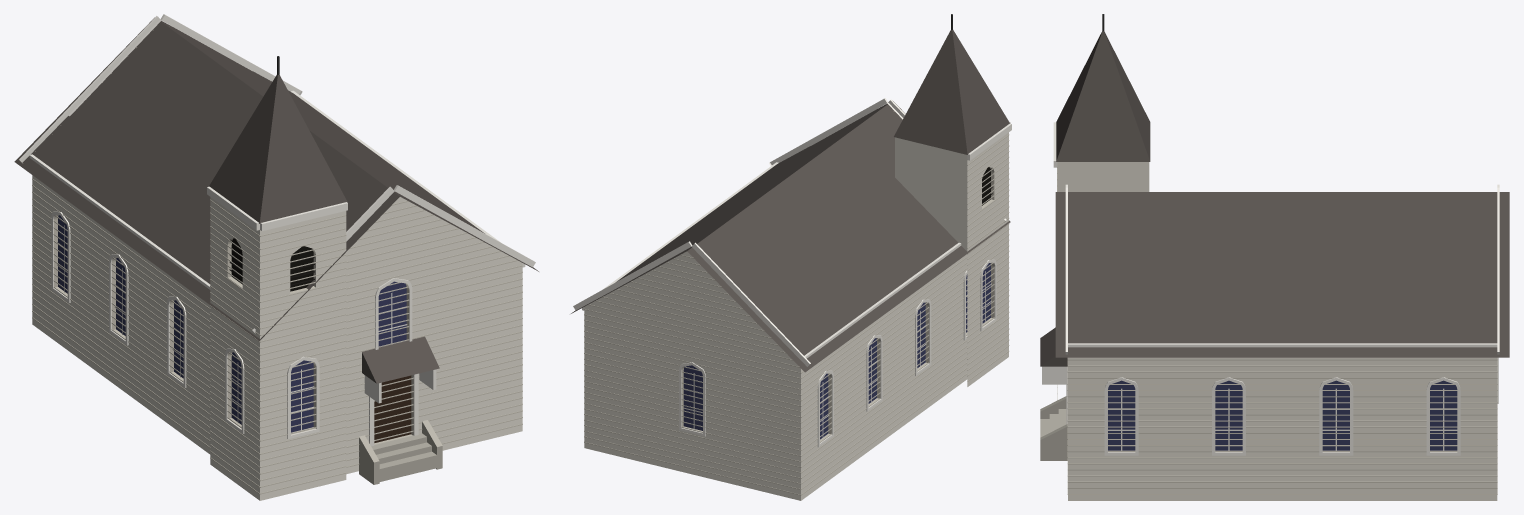
The model's file is ch-wright-avenue-christian-1913.glb.
3 renders of one model, left to right at view 1: azimuth 30°, elevation 25°; view 2: azimuth 150°, elevation 25°; view 3: azimuth 270°, elevation 25°, orthographic. The views are drawn at different scales.
Parts seen in each view (by area): view 1: ch_brick, ch_roof, ch_brick2, ch_trim, ch_roof2, ch_stain, ch_conc, ch_door, ch_shadow; view 2: ch_brick, ch_roof, ch_brick2, ch_trim, ch_roof2, ch_stain; view 3: ch_roof, ch_brick, ch_brick2, ch_roof2, ch_trim, ch_stain, ch_conc.
Boxes of the visible parts, x1=… form: ch_brick: x1=32, y1=175, x2=522, y2=500; ch_roof: x1=14, y1=17, x2=538, y2=340; ch_brick2: x1=32, y1=30, x2=522, y2=494; ch_trim: x1=19, y1=14, x2=535, y2=446; ch_roof2: x1=209, y1=74, x2=439, y2=383; ch_stain: x1=58, y1=215, x2=406, y2=432; ch_conc: x1=359, y1=420, x2=442, y2=484; ch_door: x1=374, y1=375, x2=411, y2=442; ch_shadow: x1=231, y1=238, x2=313, y2=291; ch_brick: x1=584, y1=132, x2=1008, y2=500; ch_roof: x1=571, y1=101, x2=1010, y2=372; ch_brick2: x1=584, y1=111, x2=1009, y2=495; ch_trim: x1=573, y1=98, x2=1011, y2=447; ch_roof2: x1=894, y1=30, x2=1009, y2=154; ch_stain: x1=683, y1=263, x2=990, y2=439; ch_roof: x1=1055, y1=192, x2=1509, y2=357; ch_brick: x1=1057, y1=162, x2=1497, y2=500; ch_brick2: x1=1057, y1=167, x2=1497, y2=494; ch_roof2: x1=1040, y1=31, x2=1150, y2=366; ch_trim: x1=1042, y1=122, x2=1499, y2=455; ch_stain: x1=1108, y1=380, x2=1457, y2=450; ch_conc: x1=1040, y1=396, x2=1067, y2=460.
Bounding box in the file's own units: 9.89 × 13.95 × 15.3.
